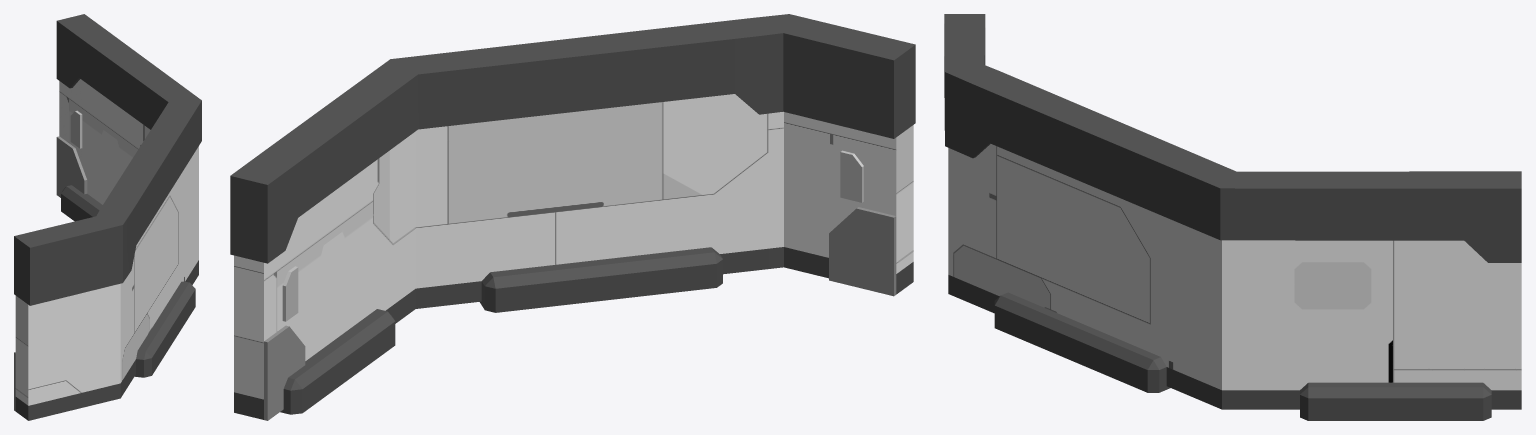
Rendered from SM_Wall_7x3_Corner_1.fbx.
3 renders of one model, left to right at view 1: azimuth 30°, elevation 25°; view 2: azimuth 150°, elevation 25°; view 3: azimuth 270°, elevation 25°, orthographic. The views are drawn at different scales.
Parts seen in each view (by area): view 1: SM_Wall_7x3_Corner_1; view 2: SM_Wall_7x3_Corner_1; view 3: SM_Wall_7x3_Corner_1.
Boxes of the visible parts, <box> form: SM_Wall_7x3_Corner_1: <box>14,14,201,420</box>; SM_Wall_7x3_Corner_1: <box>230,14,915,420</box>; SM_Wall_7x3_Corner_1: <box>944,14,1521,420</box>.
Size of the model in its own units: 523 by 305 by 705.
